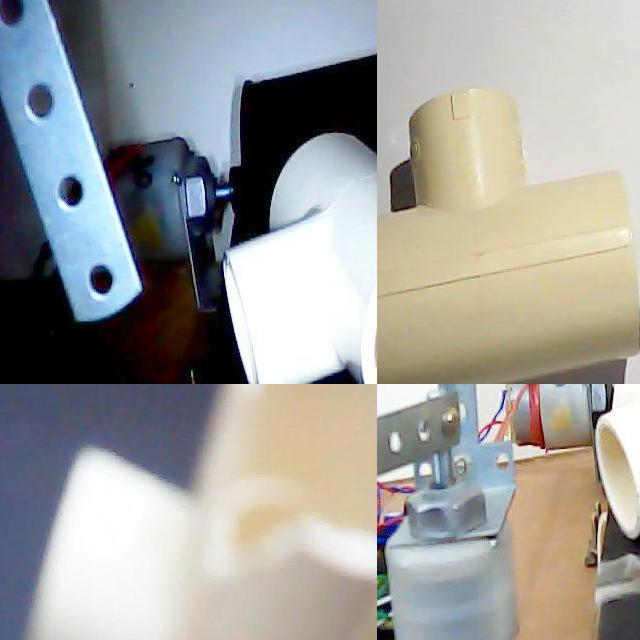Defective: (203, 384, 289, 594)
T Joint: (377, 88, 640, 384), (226, 132, 377, 384)
